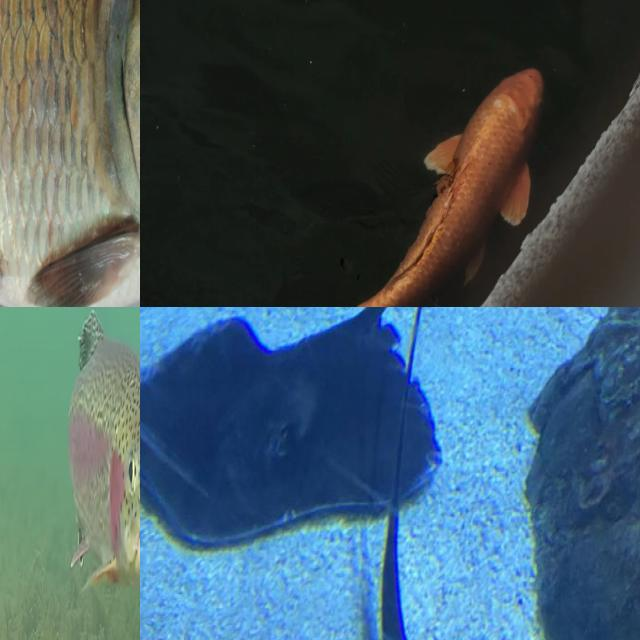fish: (140, 307, 453, 547), (348, 0, 542, 307), (0, 0, 140, 307)
